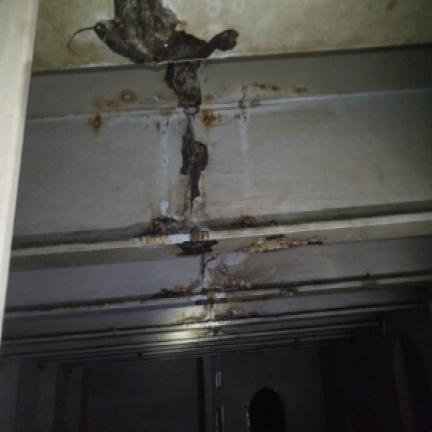karat: (69, 0, 238, 216)
